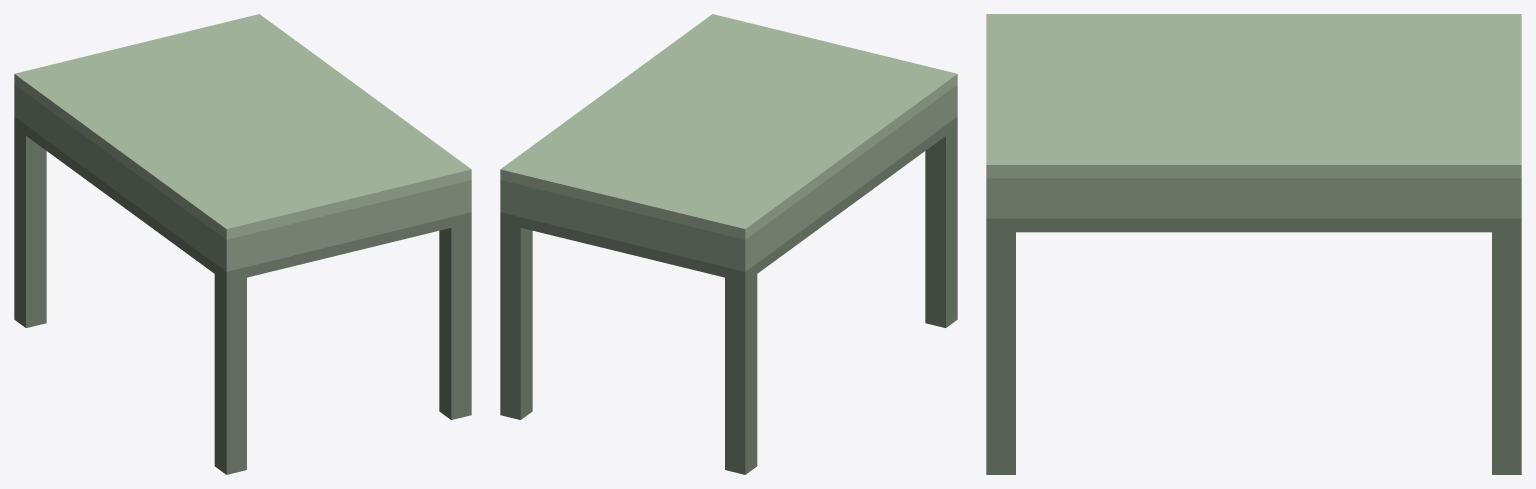
Rendered from mesa_comedor_01.glb.
3 views of the same model, side by side, from view 1: azimuth 30°, elevation 25°; view 2: azimuth 150°, elevation 25°; view 3: azimuth 270°, elevation 25° (orthographic). The views are drawn at different scales.
Parts seen in each view (by area): view 1: mesa_comedor; view 2: mesa_comedor; view 3: mesa_comedor.
Boxes of the visible parts, <box> form: mesa_comedor: <box>14,14,471,474</box>; mesa_comedor: <box>500,14,957,474</box>; mesa_comedor: <box>986,14,1521,474</box>.
Bounding box in the file's own units: 2 × 1.92 × 3.
